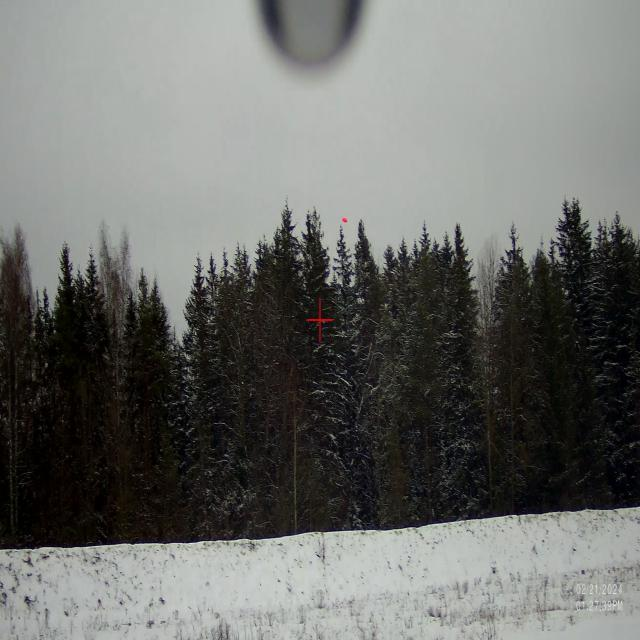entire: (337, 210, 352, 226)
